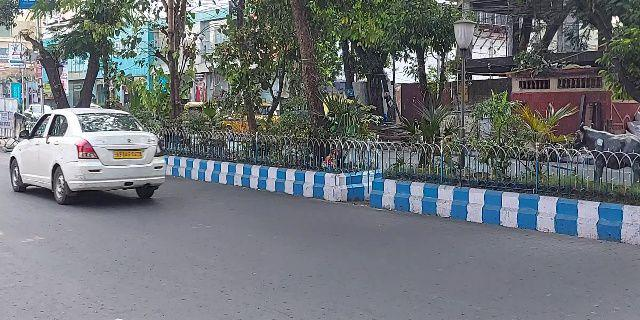Car: (8, 104, 171, 207)
